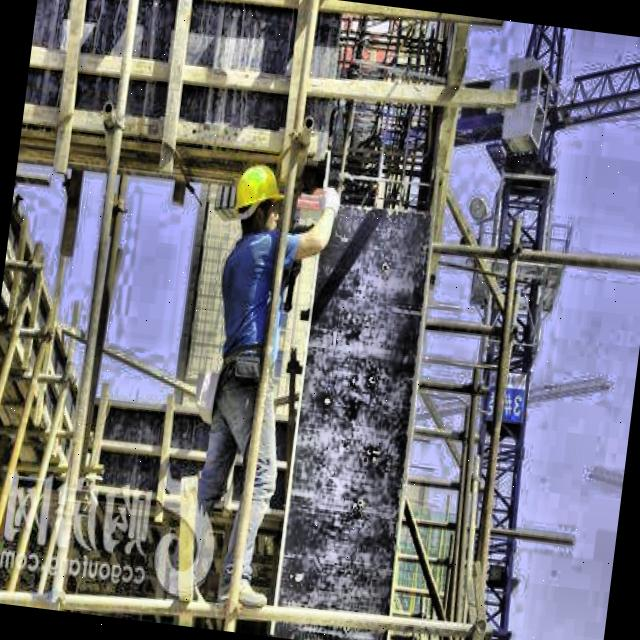helmet: (227, 156, 286, 240)
